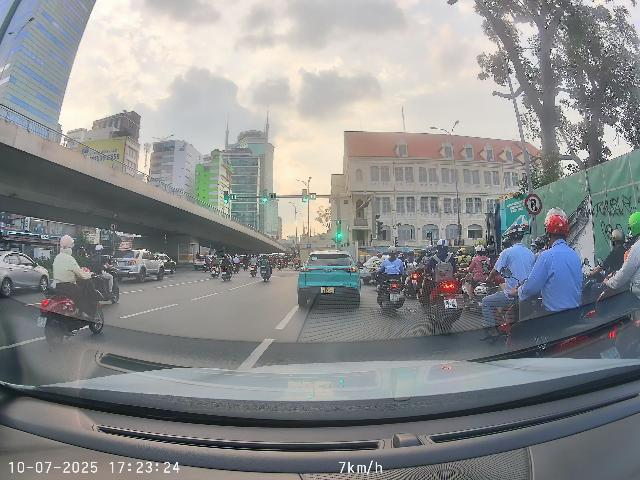124a-cam-quay-dau-xe: (525, 193, 542, 216)
